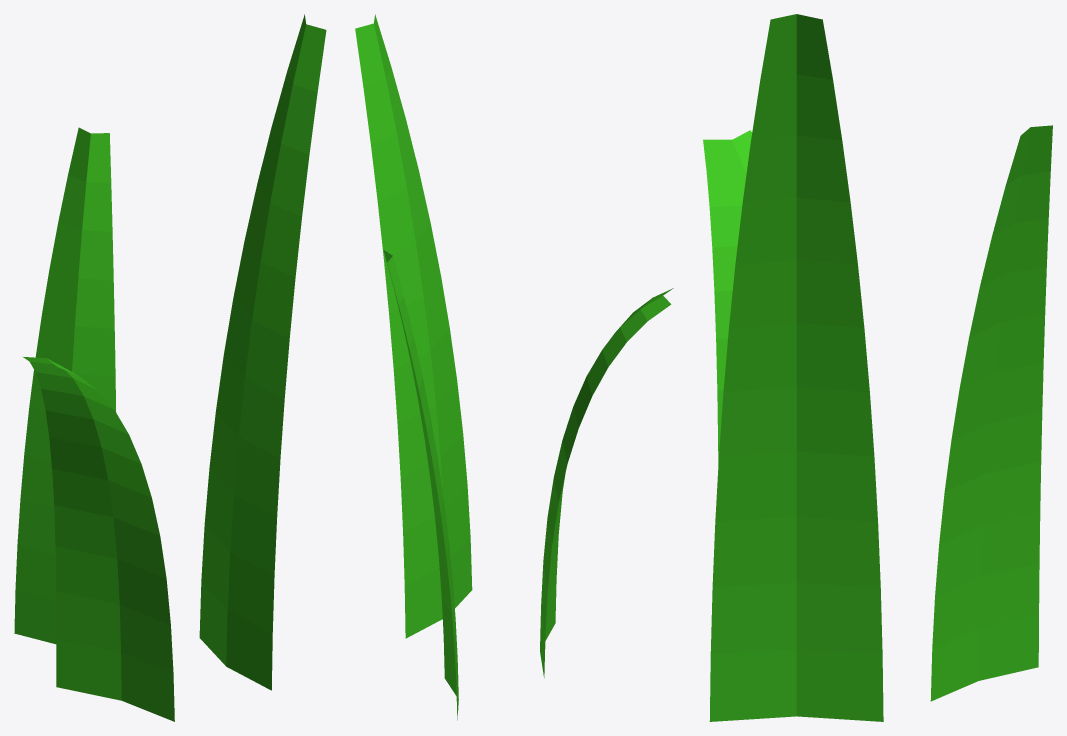
File: lowPolyGrass.obj
3 views of the same model, side by side, from view 1: azimuth 30°, elevation 25°; view 2: azimuth 150°, elevation 25°; view 3: azimuth 270°, elevation 25° (orthographic). The views are drawn at different scales.
Parts seen in each view (by area): view 1: grass_Plane, grass3_Plane.002, grass2_Plane.001; view 2: grass_Plane, grass3_Plane.002, grass2_Plane.001; view 3: grass_Plane, grass2_Plane.001, grass3_Plane.002.
Part boxes in pixels (x1,y1,x2,y2): grass_Plane: (199,14,326,690); grass3_Plane.002: (22,356,174,721); grass2_Plane.001: (14,127,116,644); grass_Plane: (355,14,472,638); grass3_Plane.002: (540,288,673,677); grass2_Plane.001: (383,250,458,720); grass_Plane: (709,14,883,721); grass2_Plane.001: (930,125,1052,701); grass3_Plane.002: (703,130,751,463).
Size of the model in its own units: 0.4961 by 0.9651 by 0.3999.
